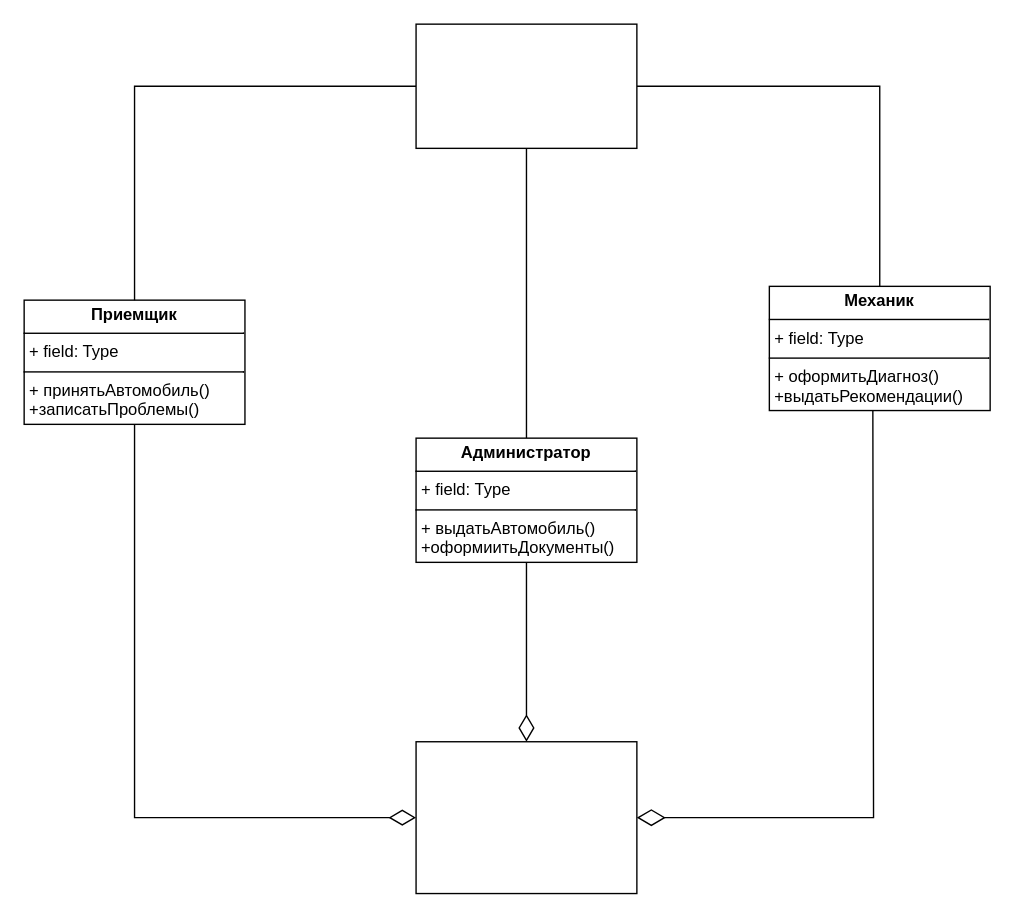
This 1014x918 diagram has some shape labels left out. Here are the shapes that lost their labels. From the top down, the centre of each, then its label:
At [526,85]: "Автомобиль + field: Type + method(): Type".
At [526,817]: "Сотрудник + имя + должность +опытРаботы + method(): Type".
